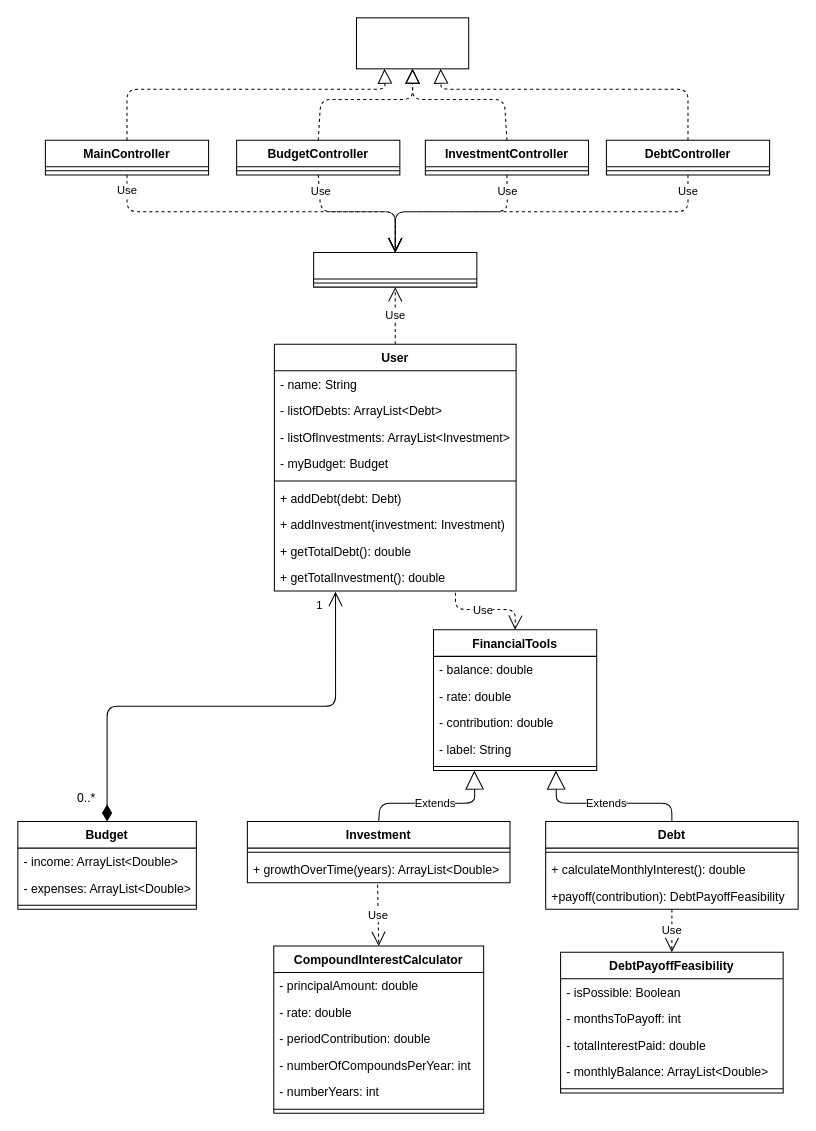
Image size: 816x1131. Some labels were removed from this diagram. The centre of each missing label's shape, as x and y in pixels:
"DatabaseConnection" belongs at [395,269].
"«interface» Controller" belongs at [412,43].
